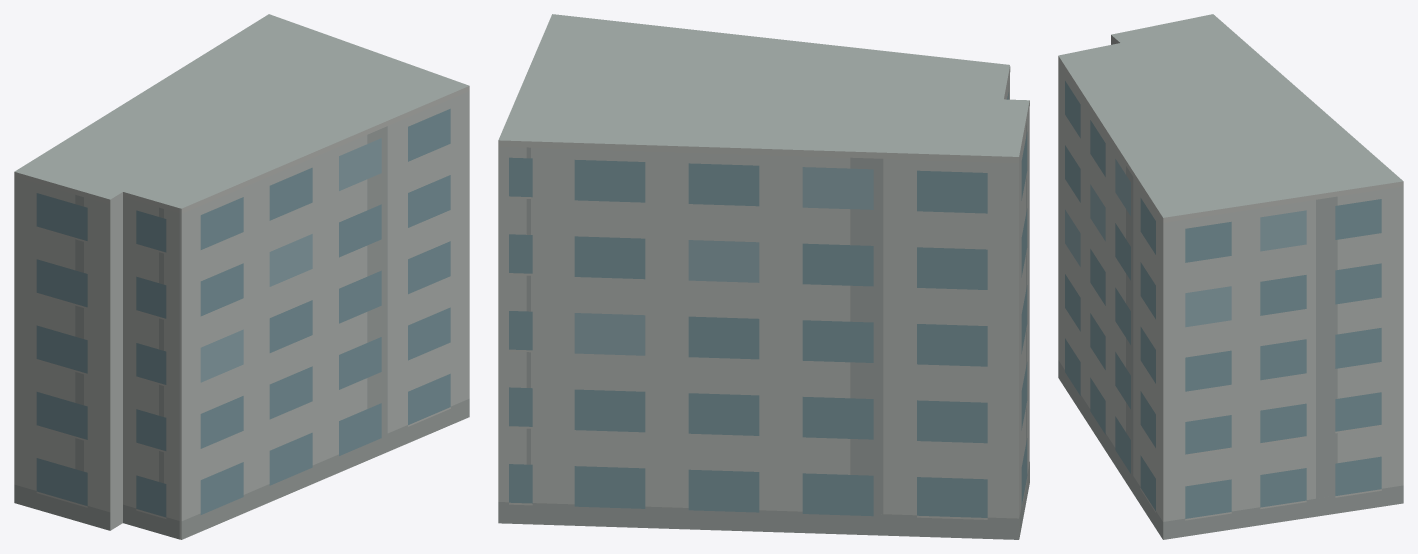
File: survey-upis-32835954.glb
The picture shows the model from 3 angles, left to right: view 1: azimuth 30°, elevation 25°; view 2: azimuth 150°, elevation 25°; view 3: azimuth 270°, elevation 25°; orthographic projection. The views are drawn at different scales.
Parts seen in each view (by area): view 1: survey-upis-32835954.tmp; view 2: survey-upis-32835954.tmp; view 3: survey-upis-32835954.tmp.
Boxes of the visible parts, x1,y1,x2,y2 form: survey-upis-32835954.tmp: (14,14,469,539); survey-upis-32835954.tmp: (498,14,1029,539); survey-upis-32835954.tmp: (1058,14,1403,539).
Bounding box in the file's own units: 20.71 × 15.25 × 14.83.
